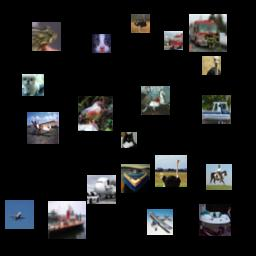airplane: (27, 112, 59, 144), (87, 175, 116, 204), (5, 200, 34, 229), (147, 209, 173, 235)
bird: (78, 96, 113, 131), (155, 155, 187, 187), (131, 14, 150, 33), (202, 56, 221, 75)
cat: (92, 34, 111, 53), (121, 132, 137, 148)
dog: (22, 74, 44, 96)
frog: (32, 22, 61, 51)
ship: (48, 201, 86, 239), (199, 204, 231, 236), (121, 164, 150, 193), (202, 95, 231, 124)
truck: (189, 14, 227, 52), (164, 31, 183, 50)
